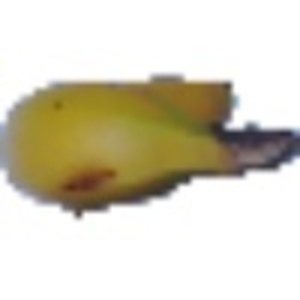banana: (1, 68, 293, 213)
